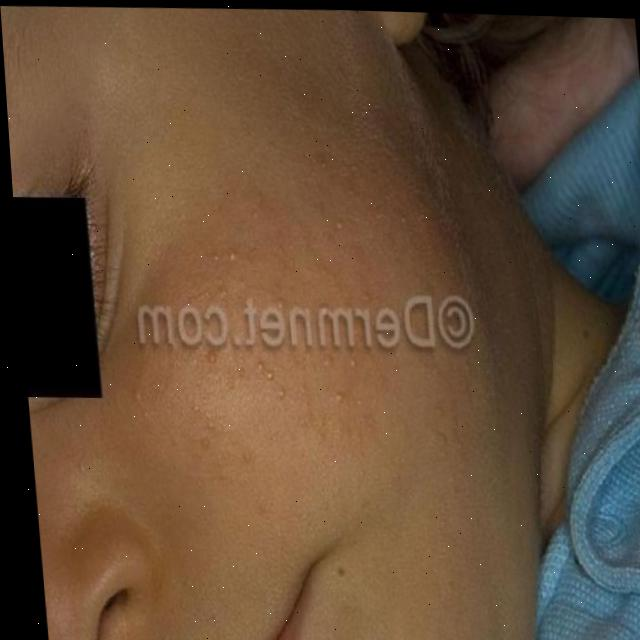Eczema: (112, 194, 402, 527)
